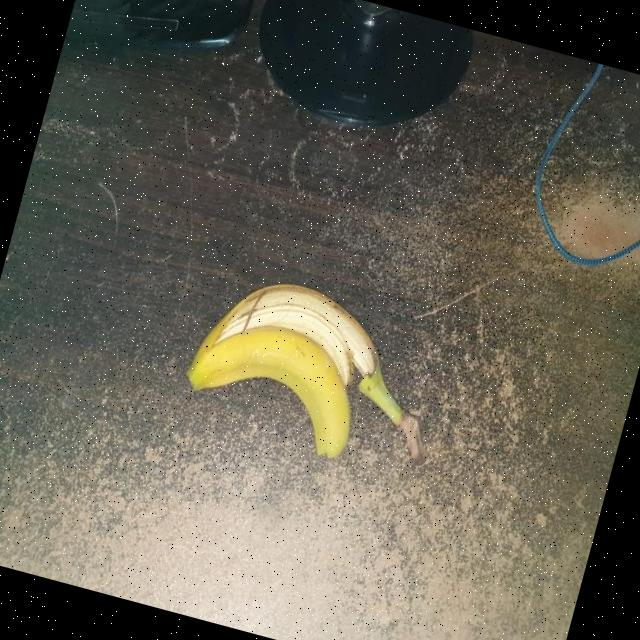banana-peel: (173, 260, 461, 483), (172, 304, 372, 462)
